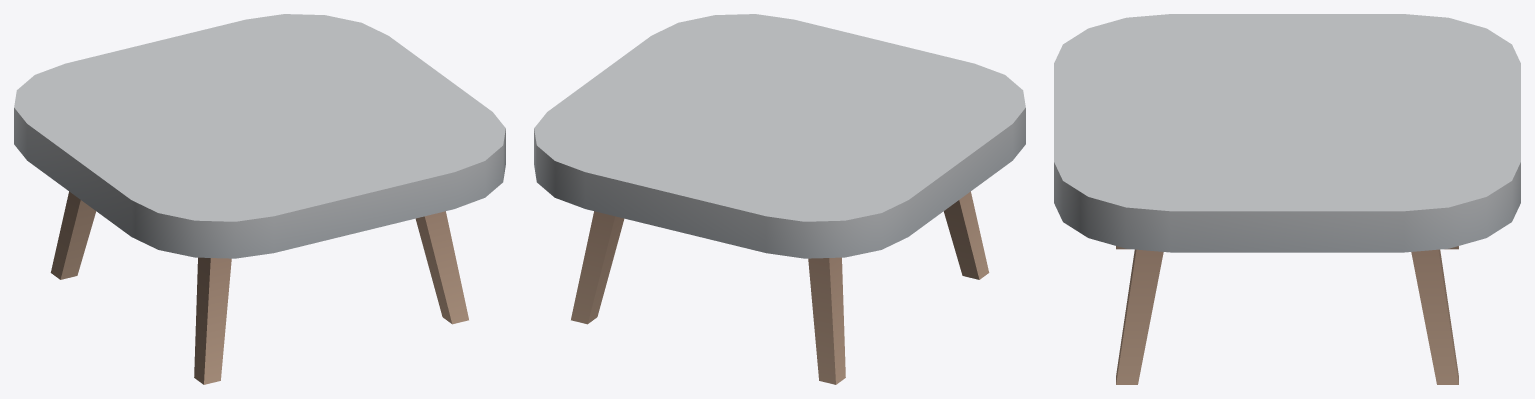
File: table-coffee-rounded.glb
3 views of the same model, side by side, from view 1: azimuth 30°, elevation 25°; view 2: azimuth 150°, elevation 25°; view 3: azimuth 270°, elevation 25° (orthographic). The views are drawn at different scales.
Visible parts, largest first — view 1: table-coffee-rounded; view 2: table-coffee-rounded; view 3: table-coffee-rounded.
Boxes of the visible parts, box(x1,y1,x2,y2) form: table-coffee-rounded: box(14, 14, 505, 384); table-coffee-rounded: box(534, 14, 1025, 384); table-coffee-rounded: box(1054, 14, 1520, 384).
Size of the model in its own units: 0.8 by 0.378 by 0.8.
